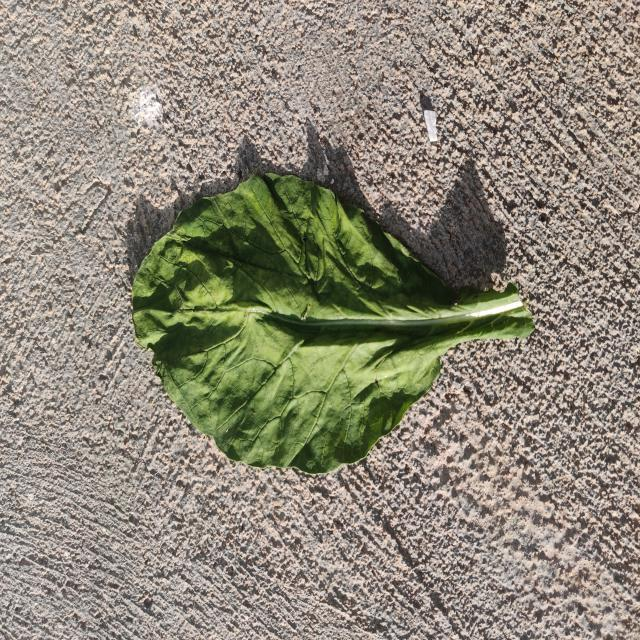leaf: (129, 169, 535, 475)
